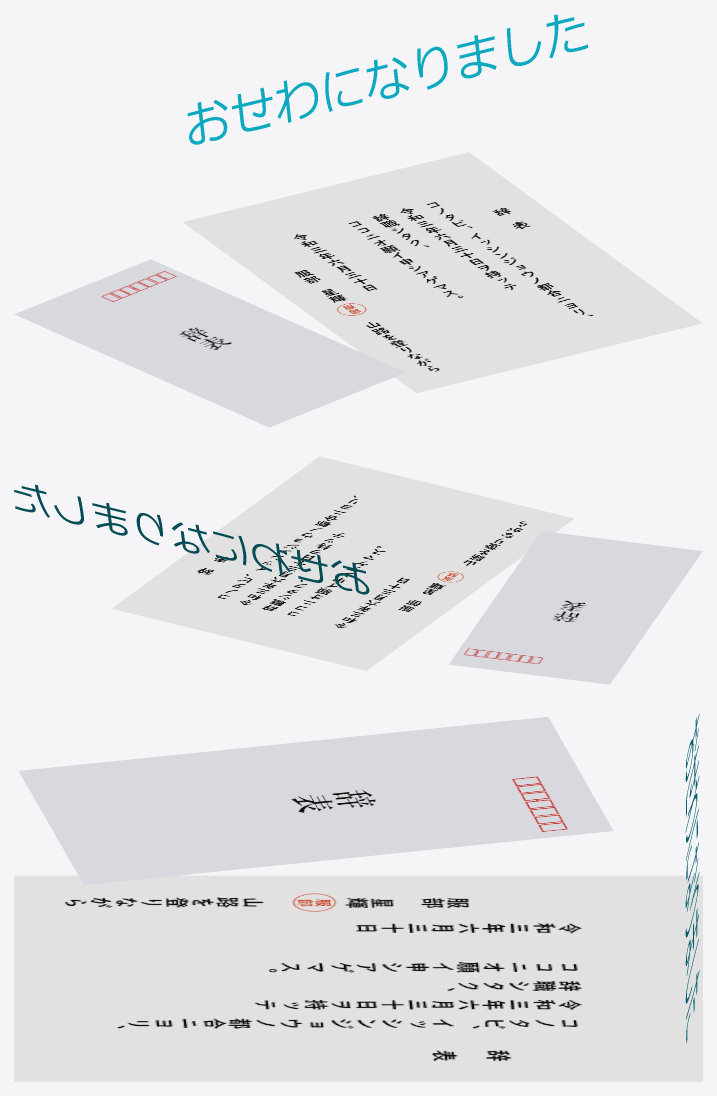
Rendered from nakami.gltf.
The picture shows the model from 3 angles, top to bottom: view 1: azimuth 30°, elevation 25°; view 2: azimuth 150°, elevation 25°; view 3: azimuth 270°, elevation 25°; orthographic projection. The views are drawn at different scales.
Parts seen in each view (by area): view 1: 平面, 平面.001, テキスト; view 2: 平面, 平面.001, テキスト; view 3: 平面, 平面.001, テキスト.
Boxes of the visible parts, box(x1,y1,x2,y2) form: 平面: box(183, 152, 702, 393); 平面.001: box(14, 259, 405, 427); テキスト: box(187, 14, 588, 144); 平面: box(112, 456, 574, 670); 平面.001: box(449, 531, 702, 684); テキスト: box(14, 484, 369, 594); 平面: box(14, 875, 702, 1081); 平面.001: box(18, 716, 613, 885); テキスト: box(685, 714, 699, 1043).
Size of the model in its own units: 0.4553 by 0.0823 by 0.297.
3 materials, 2 textured.
